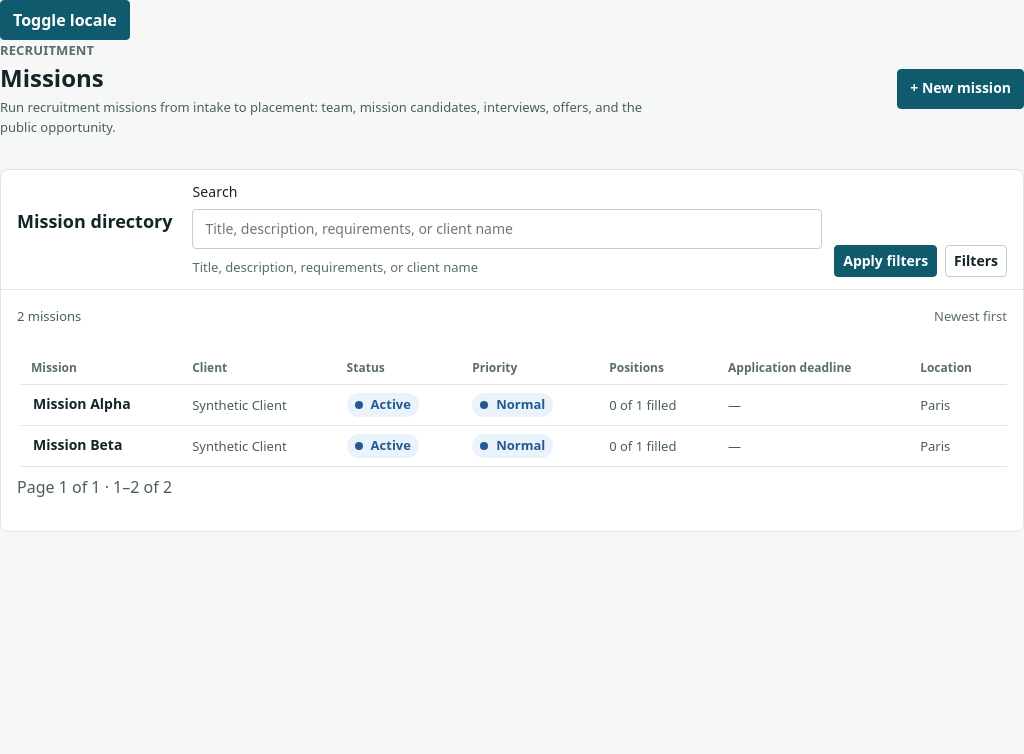
Missions detail navigation (#118) › shows team content only on the Team tab
Click the button "Mission Alpha".
click(82, 404)  # box [33,395,131,414]
(page scrolled)
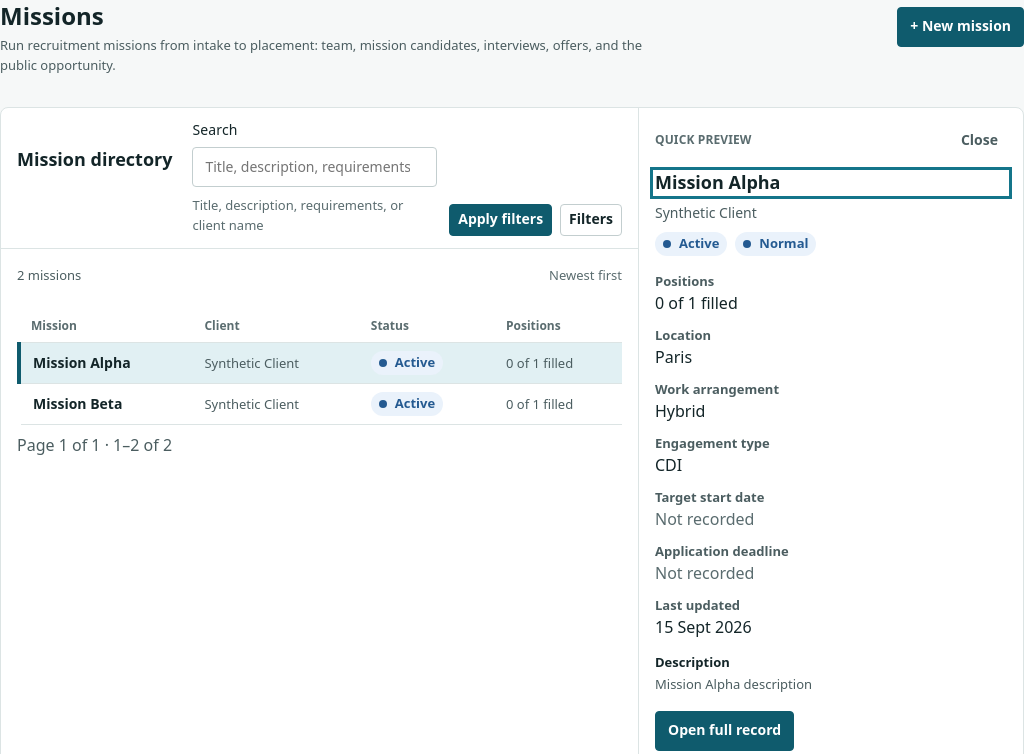
Click the button "Open full record".
click(725, 730)  # box [655,710,794,750]
(page scrolled)
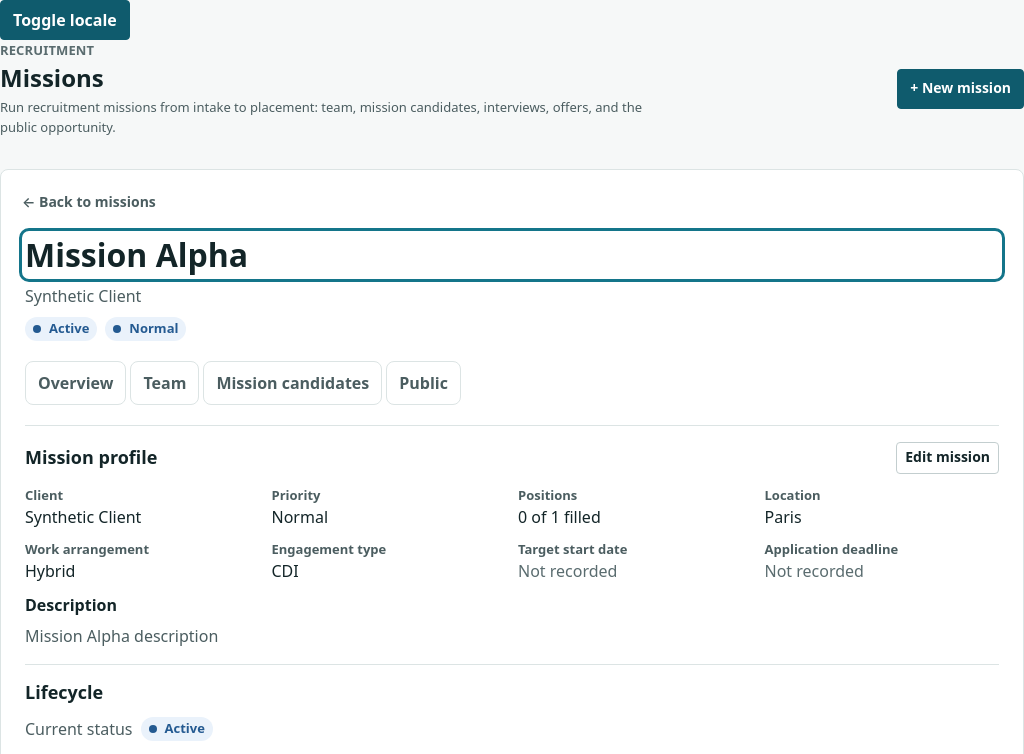
Click the tab "Team".
click(165, 383)  # box [130,361,199,405]
(page scrolled)
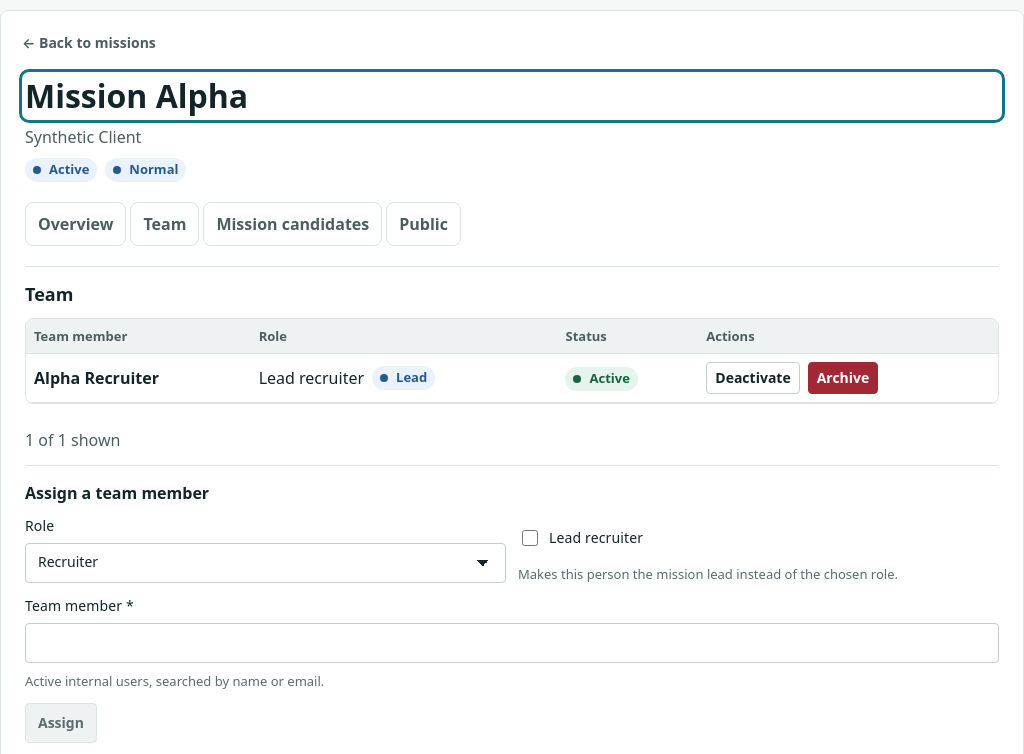
Result: the element named "Mission team" is shown
